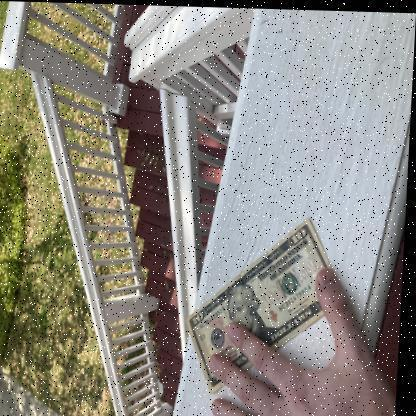ten-front: (189, 214, 350, 393)
